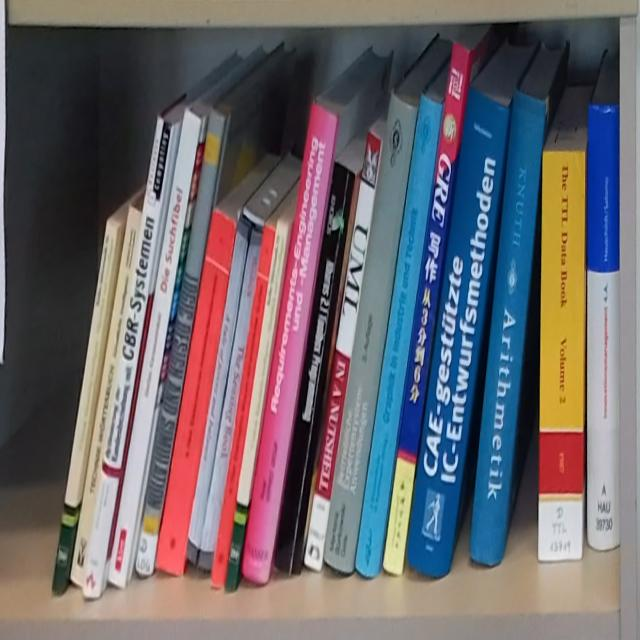Book Spine: (407, 90, 509, 579), (382, 45, 472, 576), (241, 102, 339, 586), (82, 117, 177, 599), (324, 92, 419, 573), (108, 110, 203, 588), (135, 108, 227, 578), (355, 96, 444, 578), (470, 90, 546, 567), (304, 133, 382, 573), (274, 161, 356, 575), (155, 210, 238, 575), (185, 215, 264, 572), (70, 206, 143, 591), (51, 222, 121, 597), (224, 220, 292, 593), (209, 223, 276, 594), (537, 152, 587, 562), (587, 107, 621, 552)
